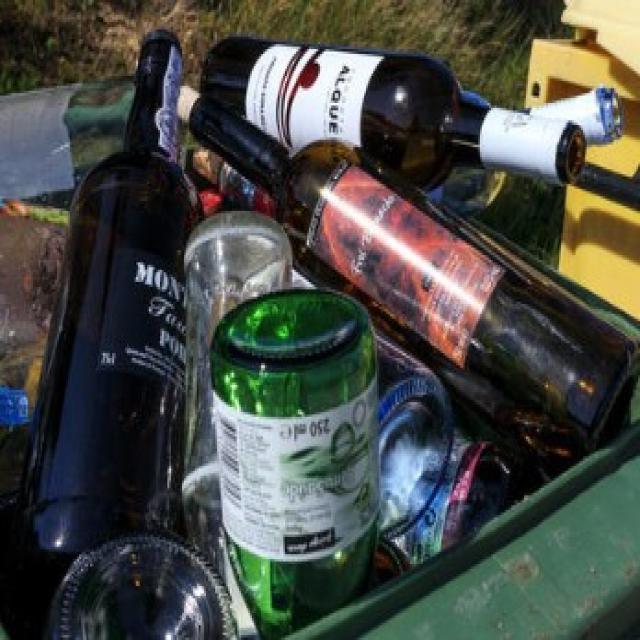electronic: (18, 27, 640, 638)
